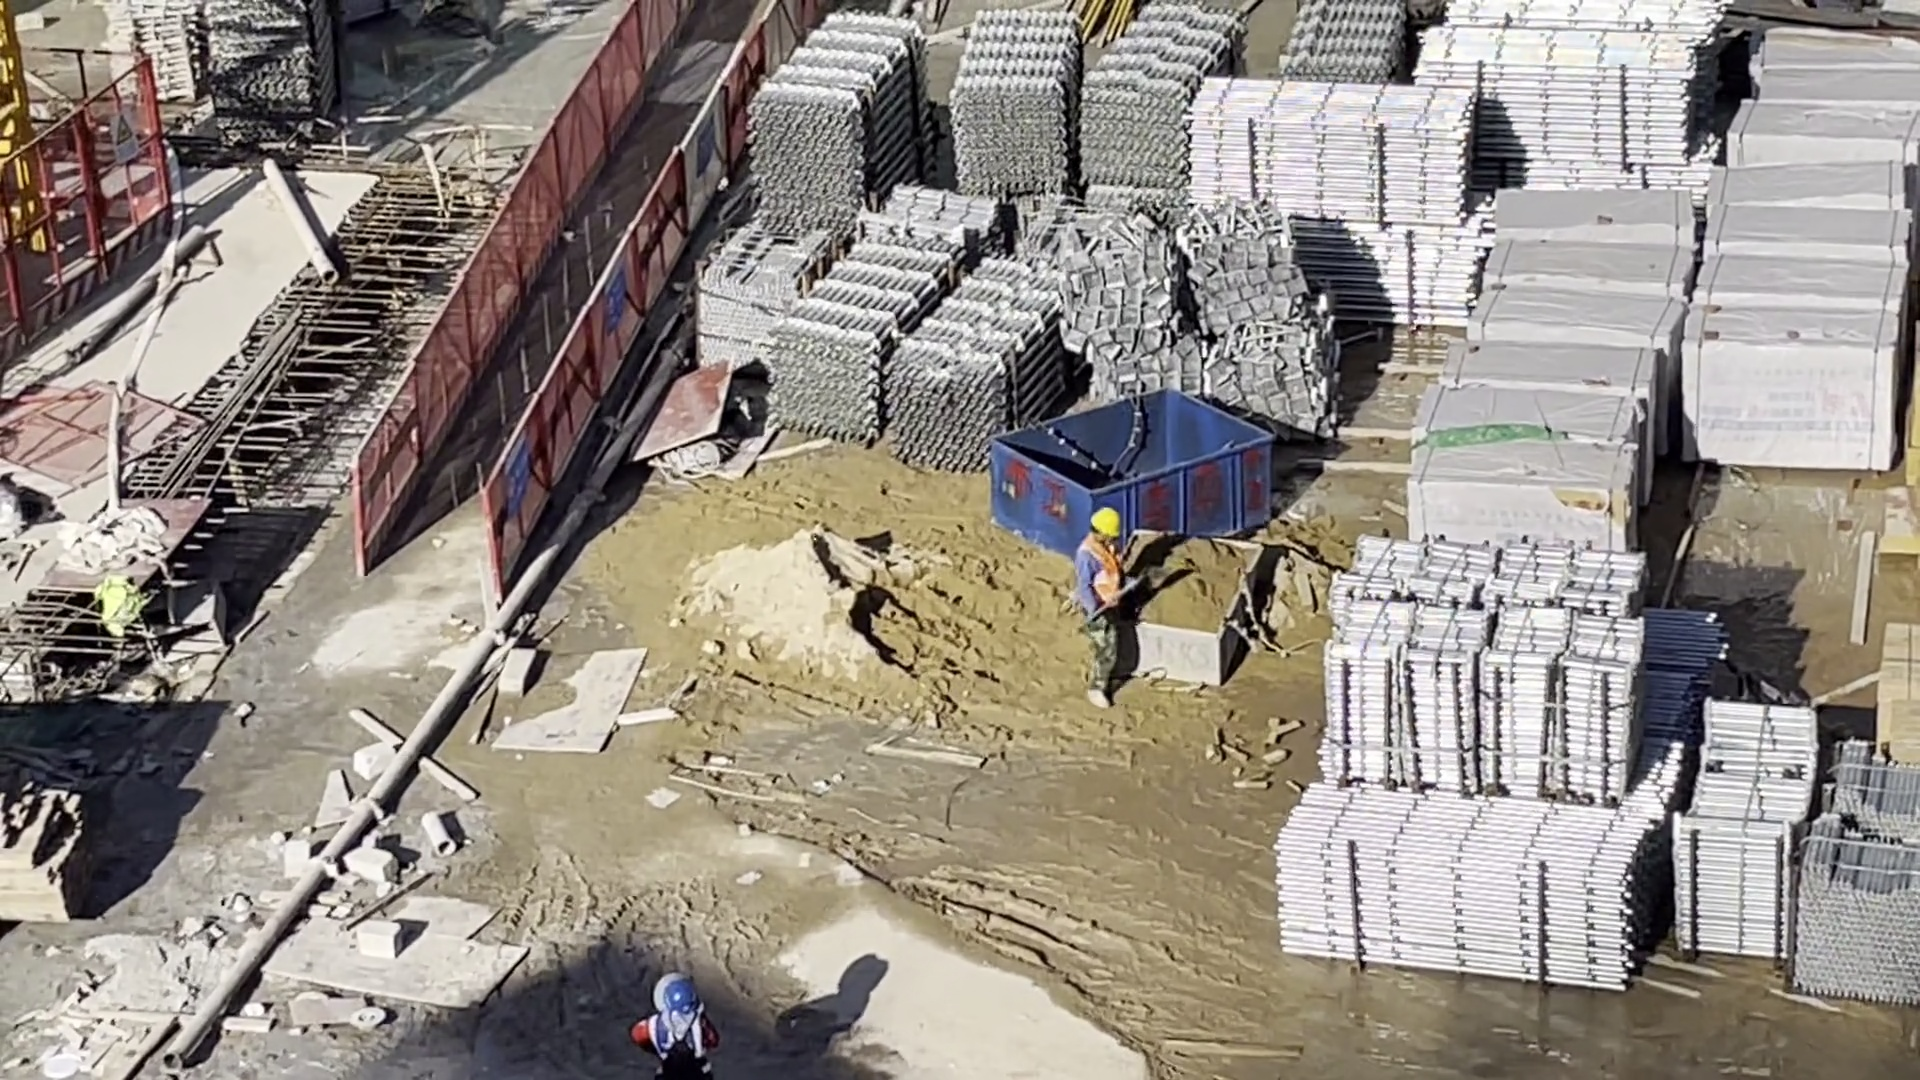board: (1875, 622, 1920, 778)
fence: (358, 3, 770, 570)
helmet: (664, 983, 697, 1015), (1091, 510, 1122, 539)
hopper: (989, 384, 1271, 557), (1131, 526, 1265, 685)
person: (1078, 510, 1131, 711), (631, 984, 714, 1080)
scaffold: (1329, 537, 1650, 788), (1275, 785, 1661, 992), (1190, 77, 1469, 331), (781, 242, 1065, 458), (950, 8, 1238, 196), (1416, 23, 1705, 165), (752, 12, 925, 234), (1683, 699, 1815, 961), (1789, 746, 1920, 1001), (212, 1, 344, 120), (1283, 1, 1402, 88), (100, 3, 205, 100)
slogan: (502, 433, 532, 519), (602, 260, 628, 341)
vest: (1079, 542, 1123, 618), (655, 1014, 708, 1066)
